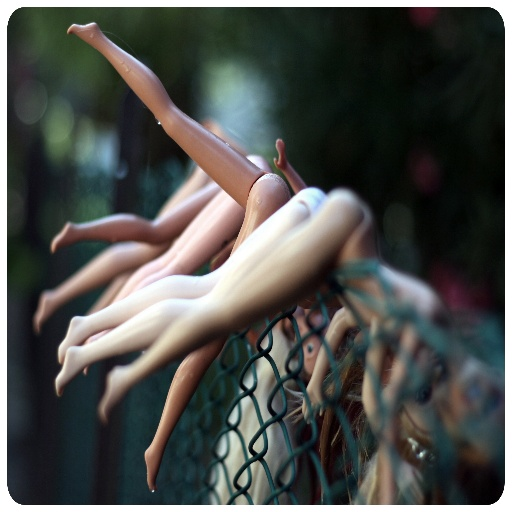hand: (396, 458, 426, 510), (302, 381, 325, 426), (270, 134, 285, 168)
